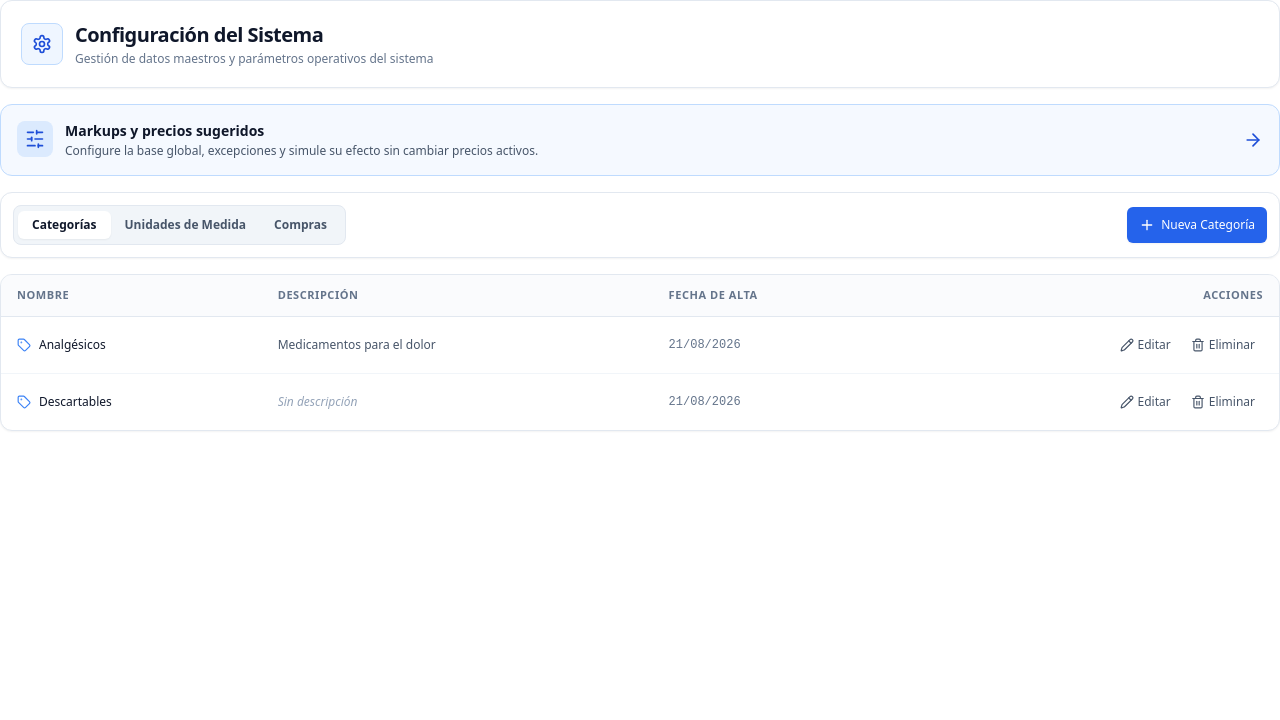
it: SettingsPage master catalog management › Categories CRUD Operations › deletes category on confirmation and handles foreign key 409 conflict
Expected: the heading "Configuración del Sistema" is shown, [75,21,323,48]
Click the button with aria-label "Eliminar categoría Analgésicos": (1223, 344) [1183,328,1263,360]
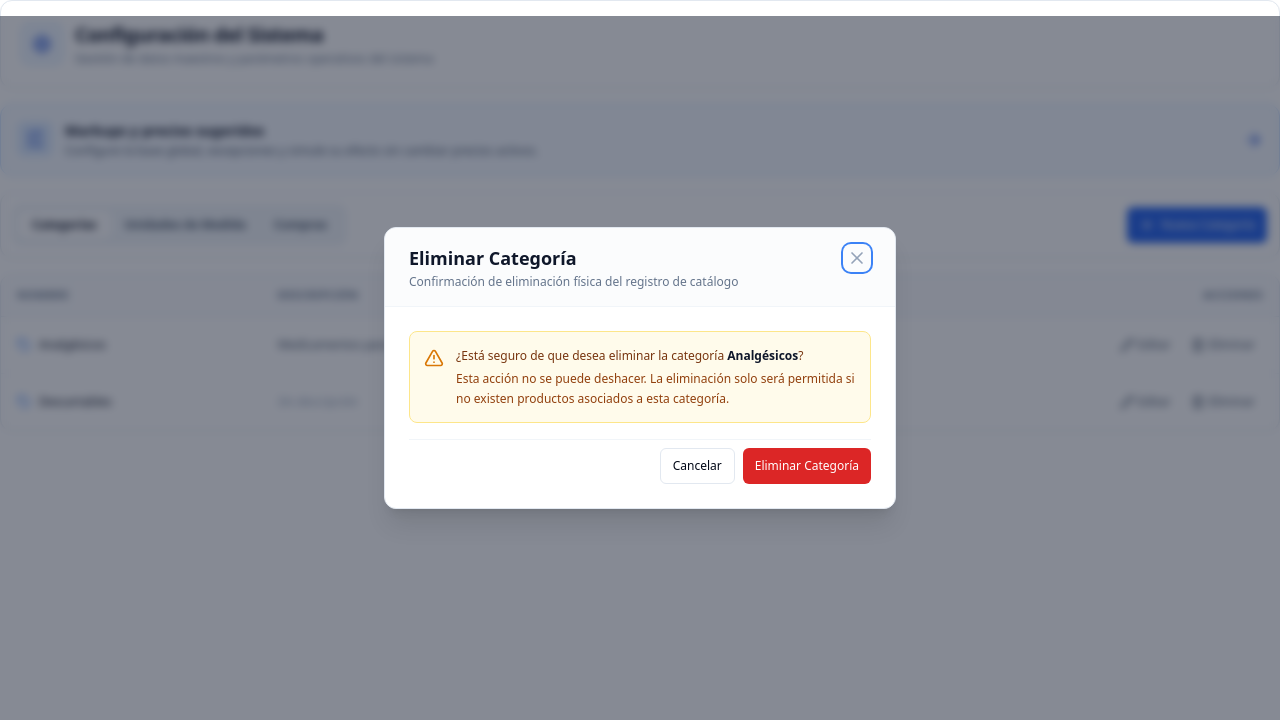
Expected: the heading "Eliminar Categoría" is shown, [409,246,577,270]
Click the button "Eliminar Categoría": (807, 466) [743,448,871,484]
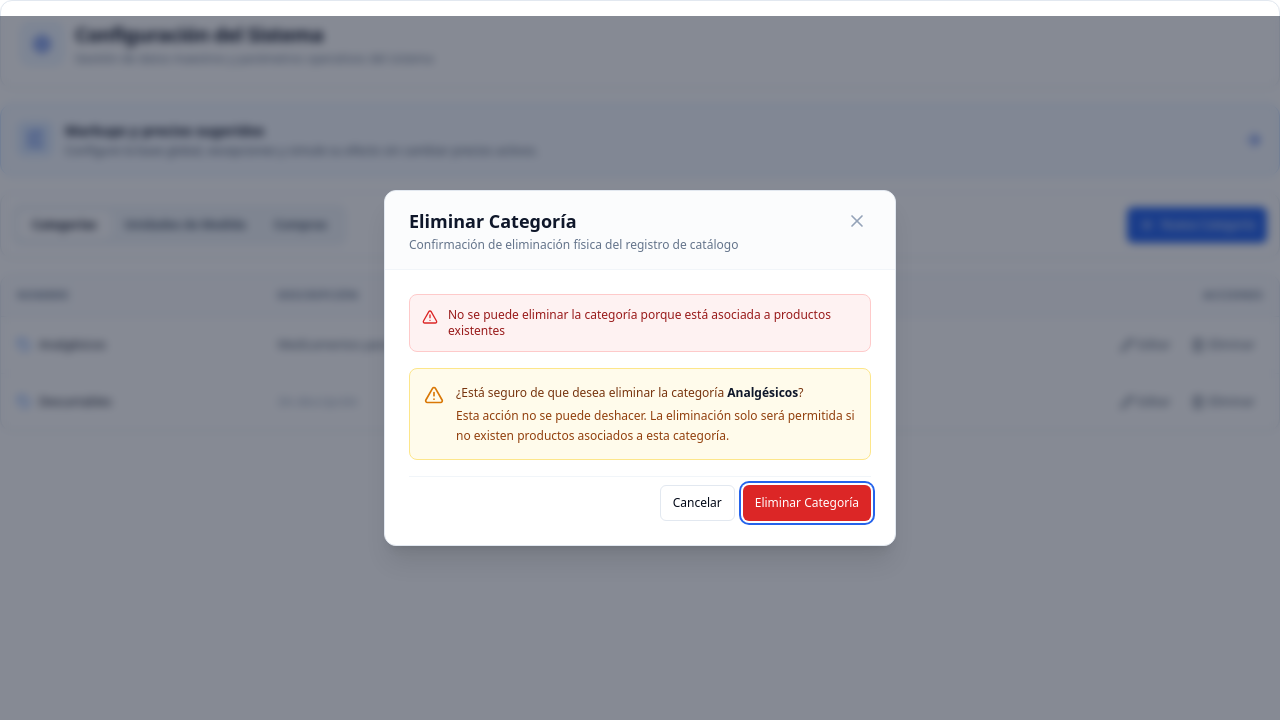
Expected: the text "No se puede eliminar la categoría porque está asociada a productos existentes" is shown, [448,307,858,339]
